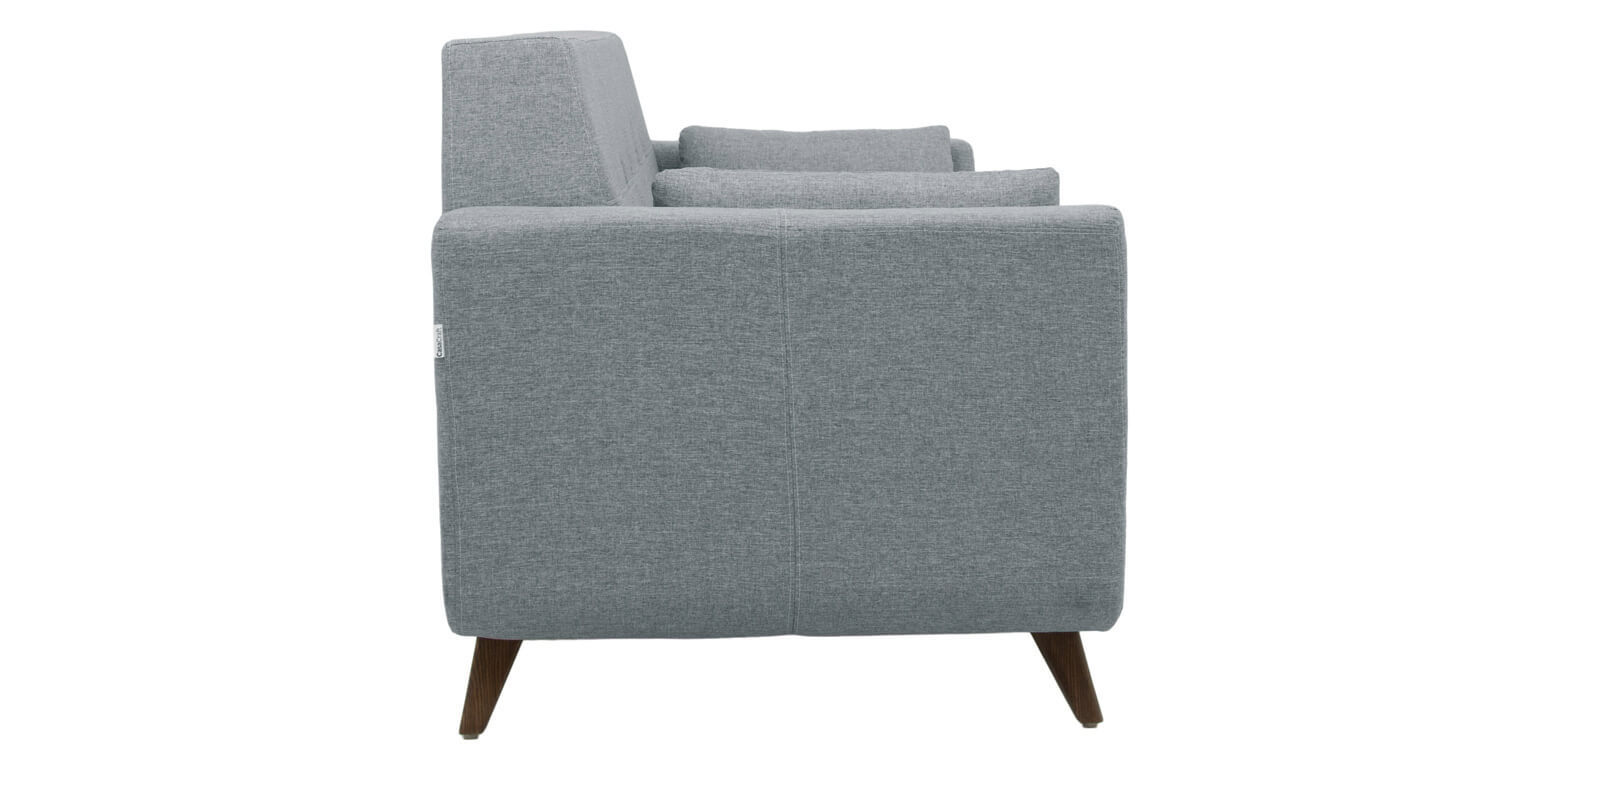Castello Three Seater Sofa in Gravel Grey Colour by CasaCraft: (409, 24, 1134, 735)
